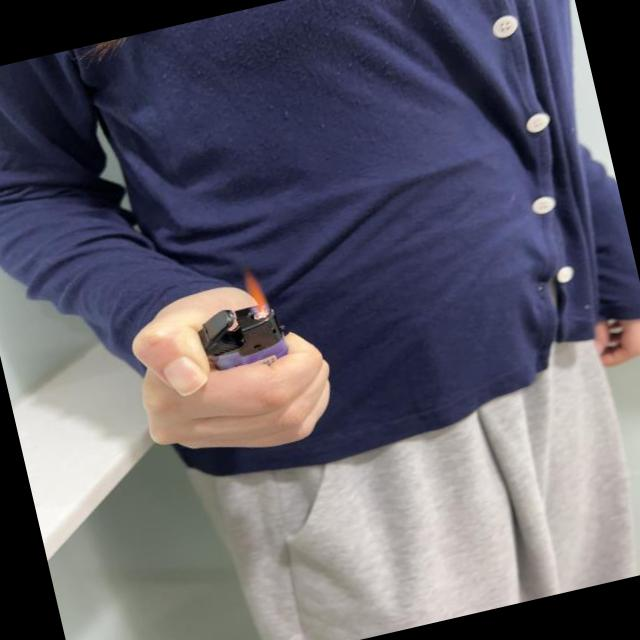Fire: (241, 263, 269, 314)
